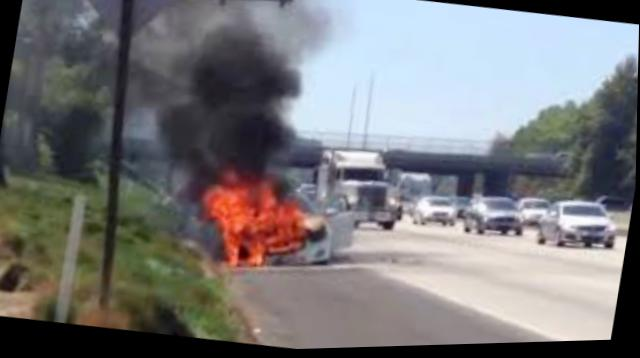fire: (182, 158, 318, 277)
